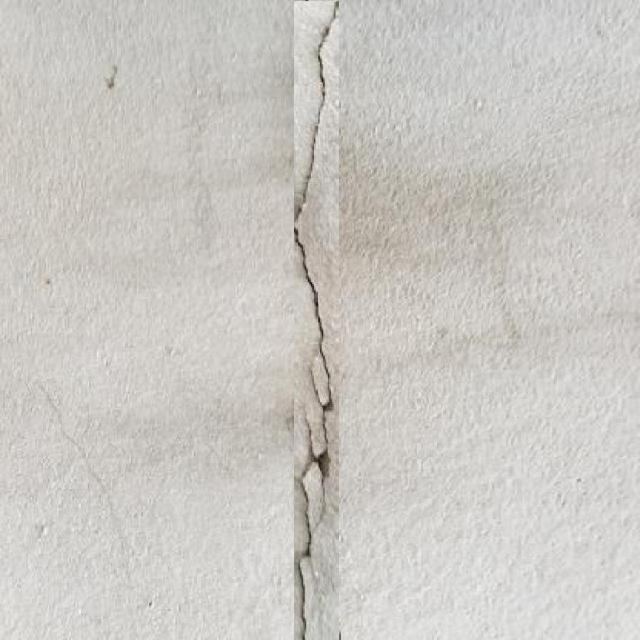multi-branched crack: (294, 4, 337, 640)
